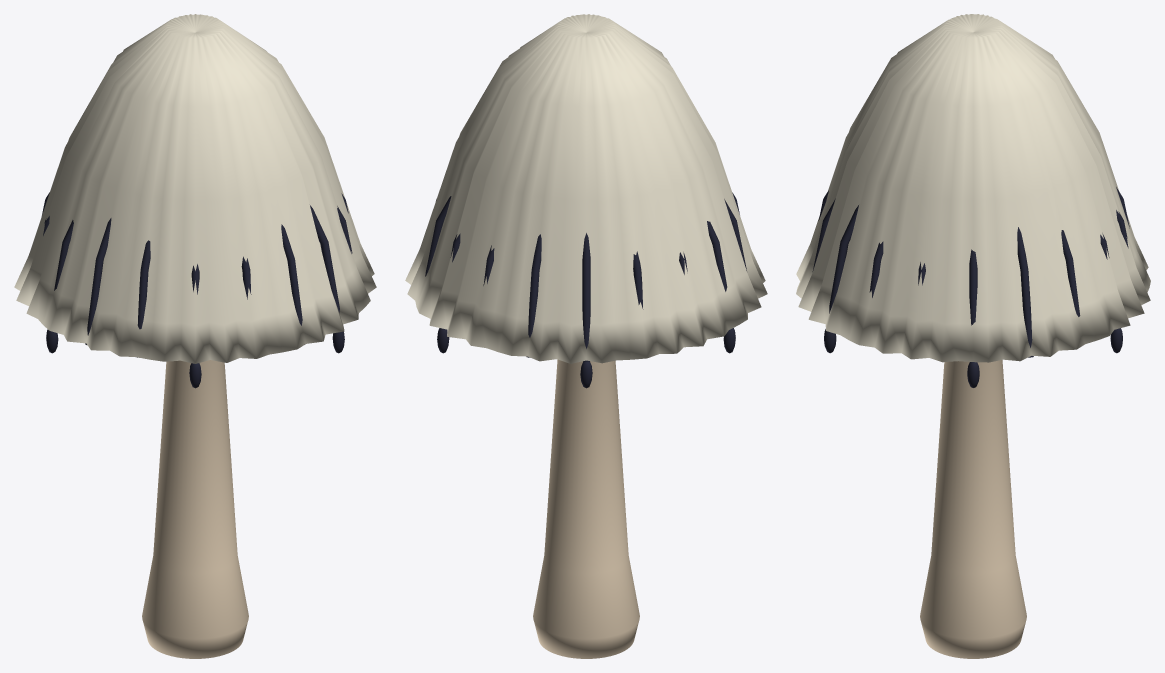
The model's file is inkcap.glb.
3 renders of one model, left to right at view 1: azimuth 30°, elevation 25°; view 2: azimuth 150°, elevation 25°; view 3: azimuth 270°, elevation 25°, orthographic.
Visible parts, largest first — view 1: inkcap; view 2: inkcap; view 3: inkcap.
Part boxes in pixels (left/top/right/bottom): inkcap: left=14, top=14, right=376, bottom=658; inkcap: left=405, top=14, right=767, bottom=658; inkcap: left=796, top=14, right=1150, bottom=658.
Bounding box in the file's own units: 0.525 × 1 × 0.525.
